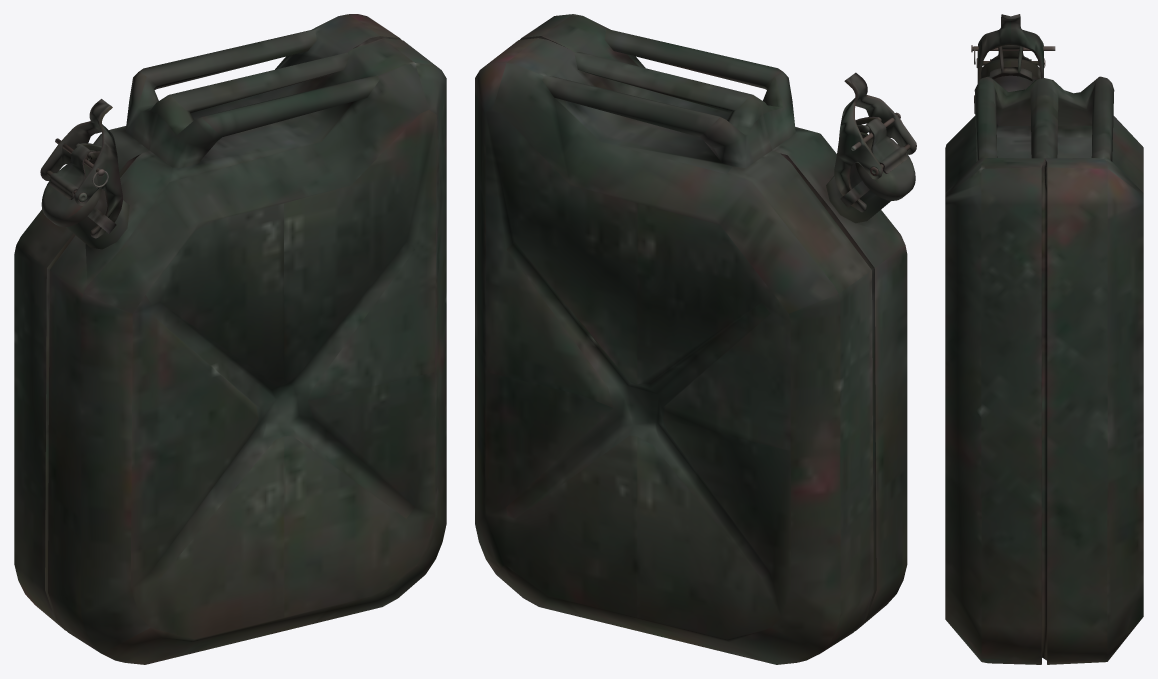
The model's file is metal_jerrycan_green.glb.
3 renders of one model, left to right at view 1: azimuth 30°, elevation 25°; view 2: azimuth 150°, elevation 25°; view 3: azimuth 270°, elevation 25°, orthographic. The views are drawn at different scales.
Visible parts, largest first — view 1: metal_jerrycan_green_body, metal_jerrycan_green_latch, metal_jerrycan_green_cap; view 2: metal_jerrycan_green_body, metal_jerrycan_green_latch, metal_jerrycan_green_cap; view 3: metal_jerrycan_green_body, metal_jerrycan_green_latch, metal_jerrycan_green_cap, metal_jerrycan_green_fastener.
Part boxes in pixels (x1,y1,x2,y2): metal_jerrycan_green_body: [14, 14, 446, 664]; metal_jerrycan_green_latch: [40, 99, 122, 238]; metal_jerrycan_green_cap: [41, 144, 101, 227]; metal_jerrycan_green_body: [475, 14, 907, 664]; metal_jerrycan_green_latch: [834, 72, 916, 212]; metal_jerrycan_green_cap: [855, 118, 915, 200]; metal_jerrycan_green_body: [945, 75, 1143, 664]; metal_jerrycan_green_latch: [976, 14, 1045, 83]; metal_jerrycan_green_cap: [980, 45, 1040, 79]; metal_jerrycan_green_fastener: [989, 46, 1032, 81].
Size of the model in its own units: 0.3604 by 0.4998 by 0.1709.
Materials: 1 (1 with a texture image).
